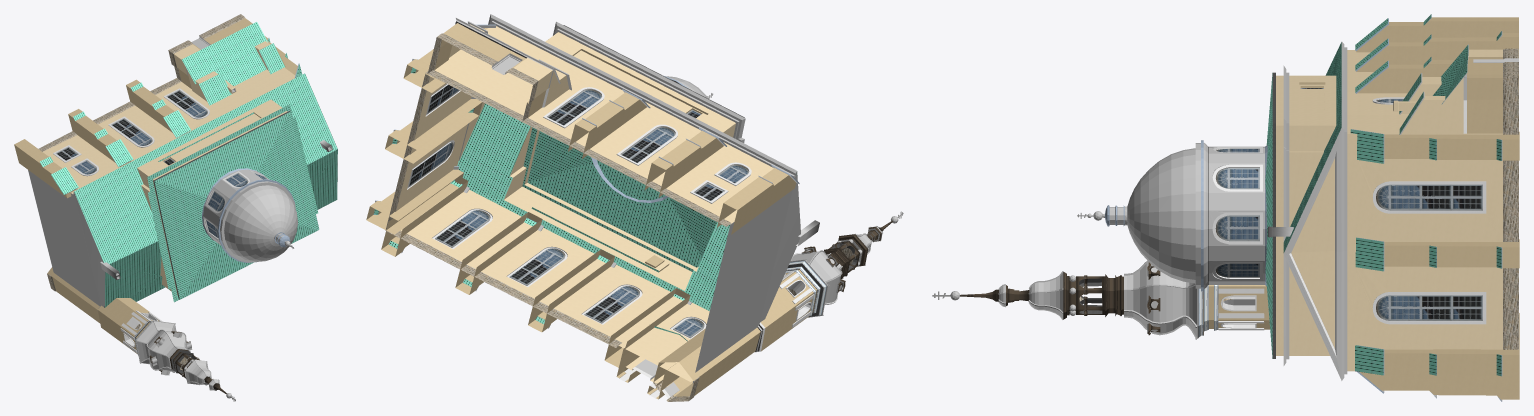
The model's file is Suur-Kloostri_14_2.obj.
The picture shows the model from 3 angles, left to right: view 1: azimuth 30°, elevation 25°; view 2: azimuth 150°, elevation 25°; view 3: azimuth 270°, elevation 25°; orthographic projection. The views are drawn at different scales.
Parts seen in each view (by area): view 1: Suur_Kloostri_14_2; view 2: Suur_Kloostri_14_2; view 3: Suur_Kloostri_14_2.
Boxes of the visible parts, <box> form: Suur_Kloostri_14_2: <box>14,14,337,401</box>; Suur_Kloostri_14_2: <box>366,14,903,401</box>; Suur_Kloostri_14_2: <box>932,14,1519,401</box>.
Size of the model in its own units: 42.7 by 35.13 by 45.4.
